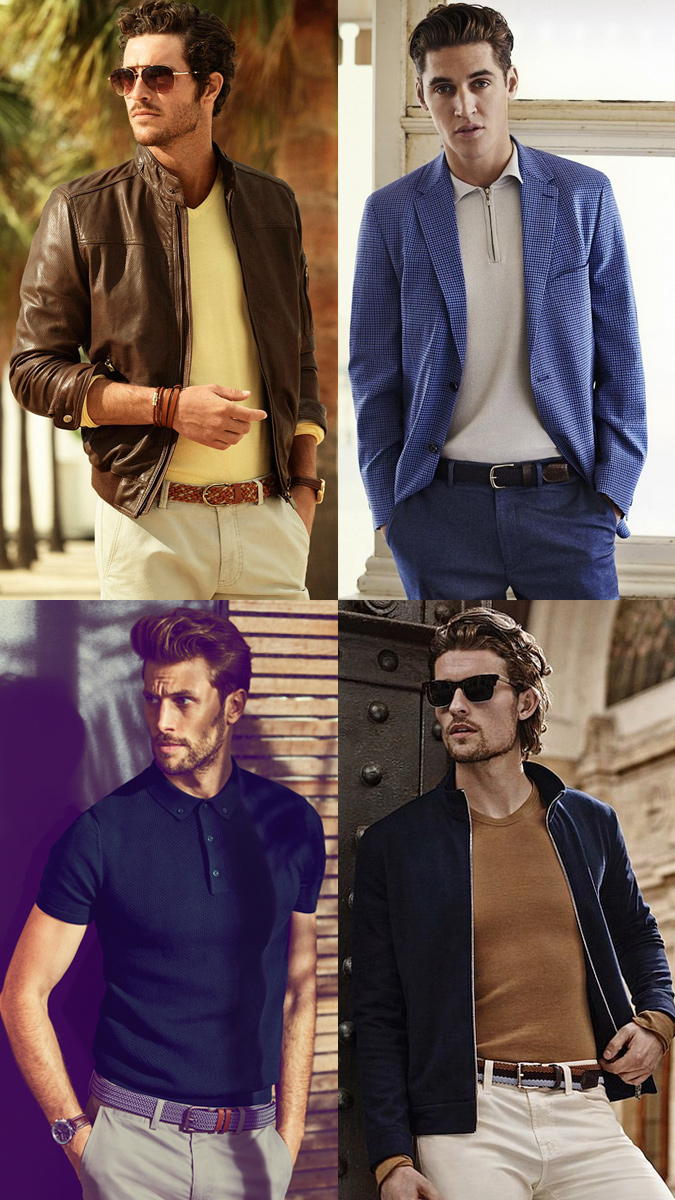C_polo shirt: (60, 774, 330, 1112)
F_M_suit jacket: (354, 159, 655, 520)
F_belt: (93, 1061, 297, 1141), (445, 1039, 618, 1108), (439, 452, 598, 499), (145, 460, 268, 515)
